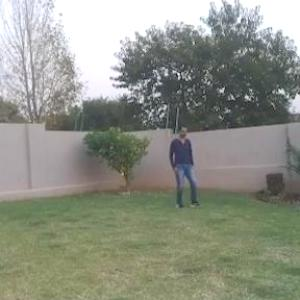follow: (169, 122, 197, 210)
